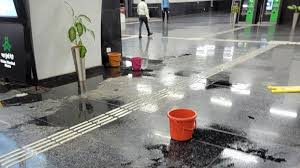Wet-floor: (24, 78, 135, 129), (162, 109, 250, 168), (190, 36, 260, 102)
